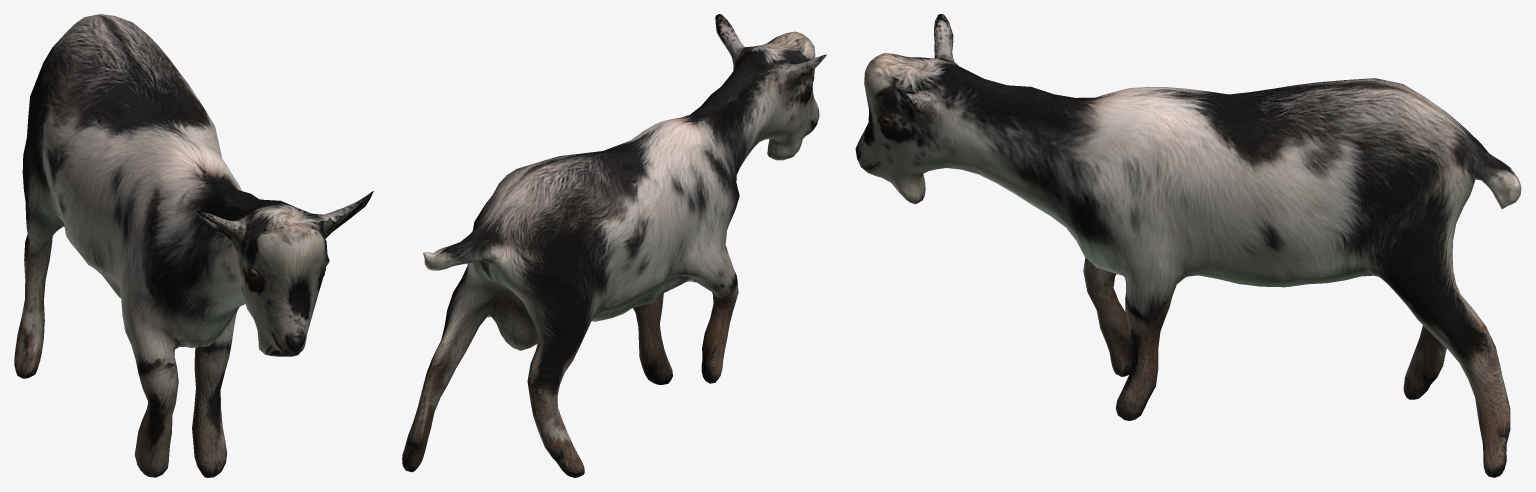
Rendered from DwarfGoat.glb.
3 views of the same model, side by side, from view 1: azimuth 30°, elevation 25°; view 2: azimuth 150°, elevation 25°; view 3: azimuth 270°, elevation 25° (orthographic). The views are drawn at different scales.
Visible parts, largest first — view 1: DwarfGoat_RIG:DwarfGoat_GEO; view 2: DwarfGoat_RIG:DwarfGoat_GEO; view 3: DwarfGoat_RIG:DwarfGoat_GEO.
Part boxes in pixels (box(x1,y1,x2,y2)): DwarfGoat_RIG:DwarfGoat_GEO: box(14, 14, 373, 477); DwarfGoat_RIG:DwarfGoat_GEO: box(402, 14, 826, 477); DwarfGoat_RIG:DwarfGoat_GEO: box(855, 14, 1521, 477).
Bounding box in the file's own units: 0.2811 × 0.4054 × 0.6915.
1 material, 1 textured.
